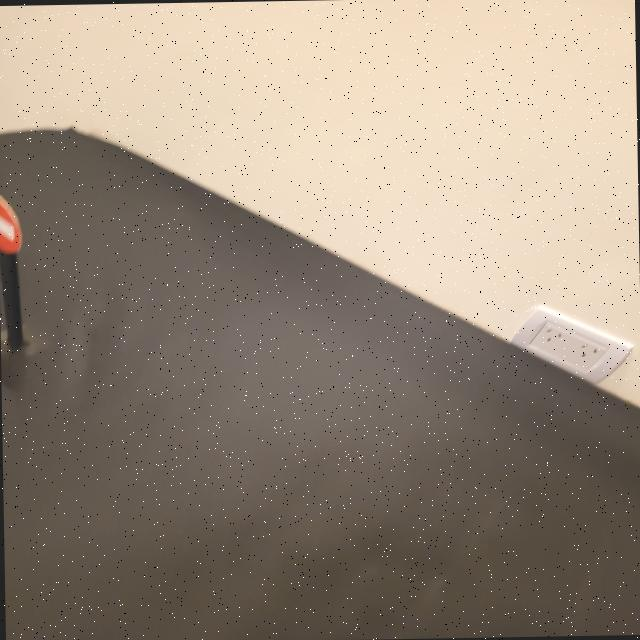no_entry: (0, 192, 23, 255)
